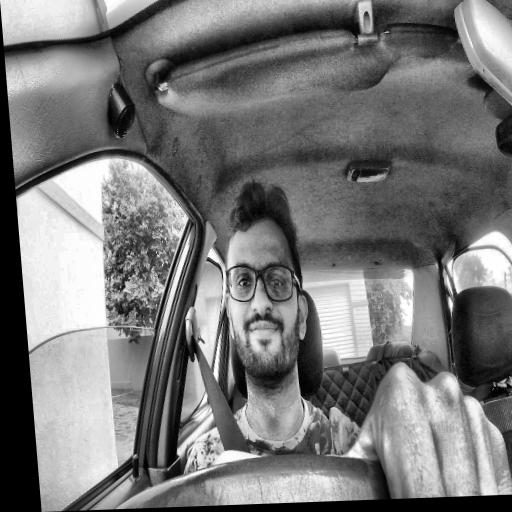awake: (215, 177, 315, 392)
